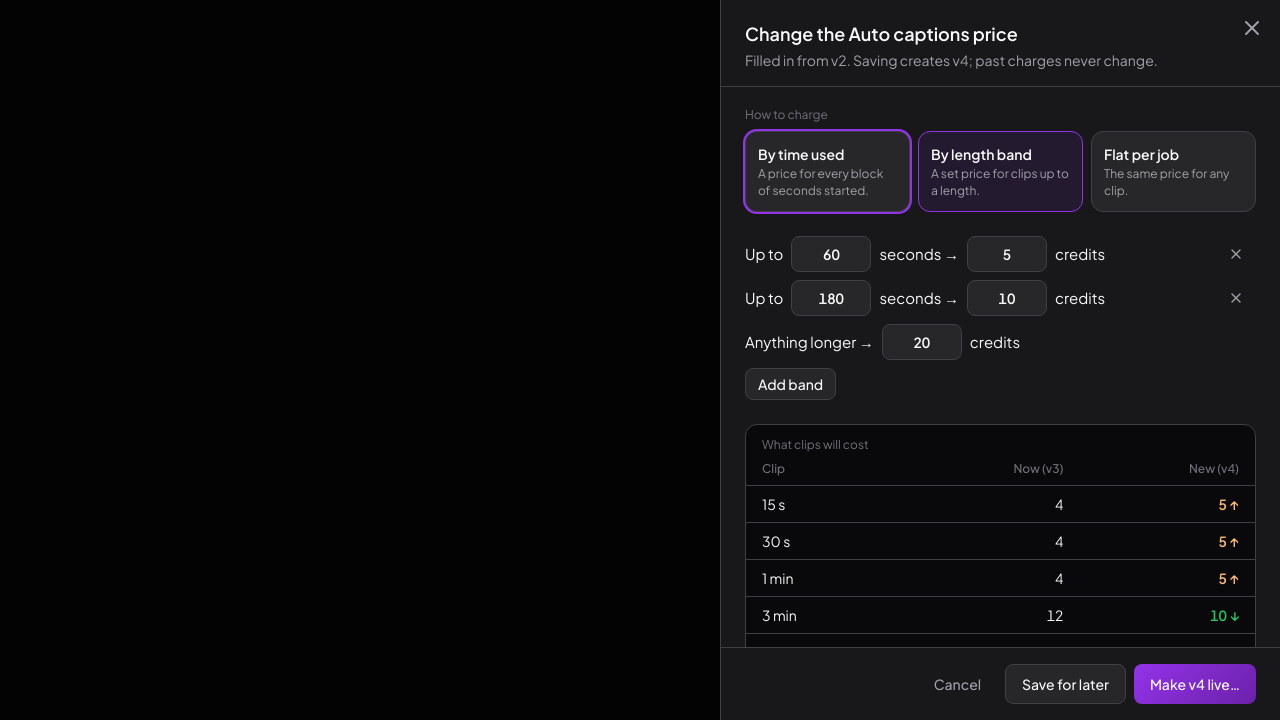
ChangePriceSheet › adds and removes length bands
This screenshot has width=1280, height=720.
What coordinates should you click on to do the following:
click the button "Add band"
I would click on:
 (791, 384)
Its box is 745,368 -> 836,400.
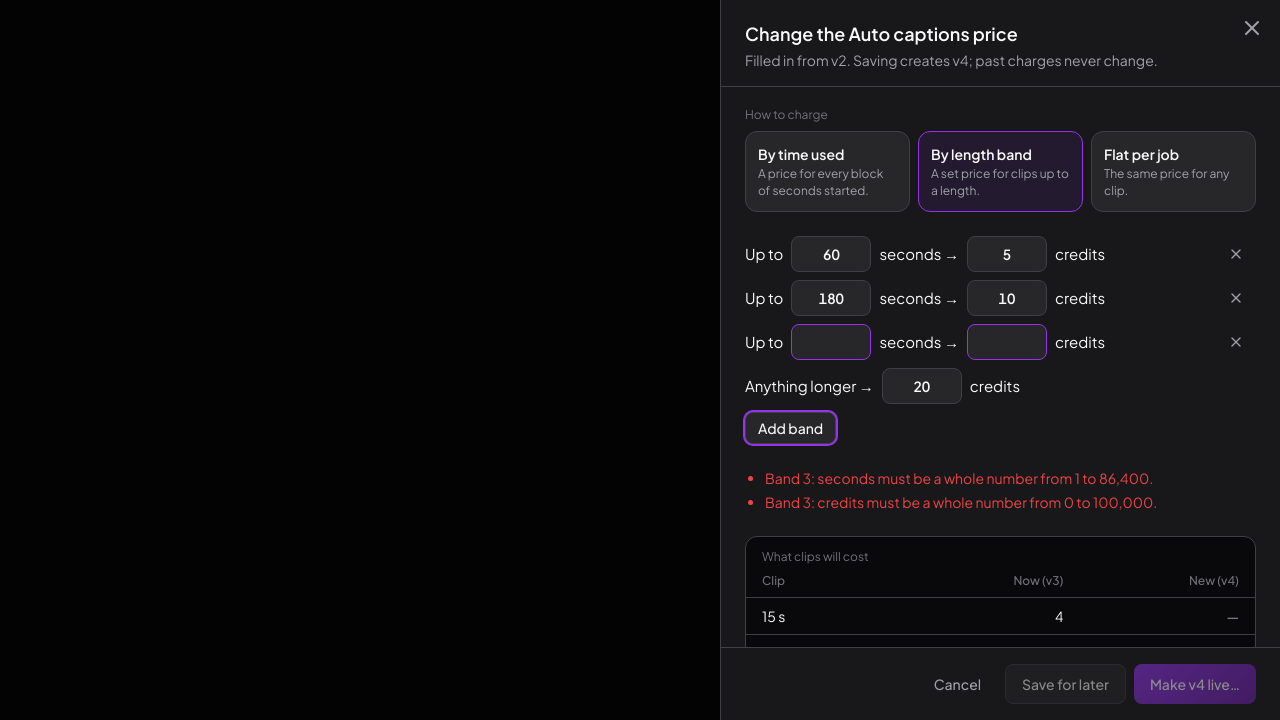
Expected: the field named "Band 3 up to seconds" is empty, 791,324 -> 871,360
What coordinates should you click on to do the following:
click the button named "Remove band 1"
I would click on:
 (1236, 254)
Its box is 1216,238 -> 1256,270.
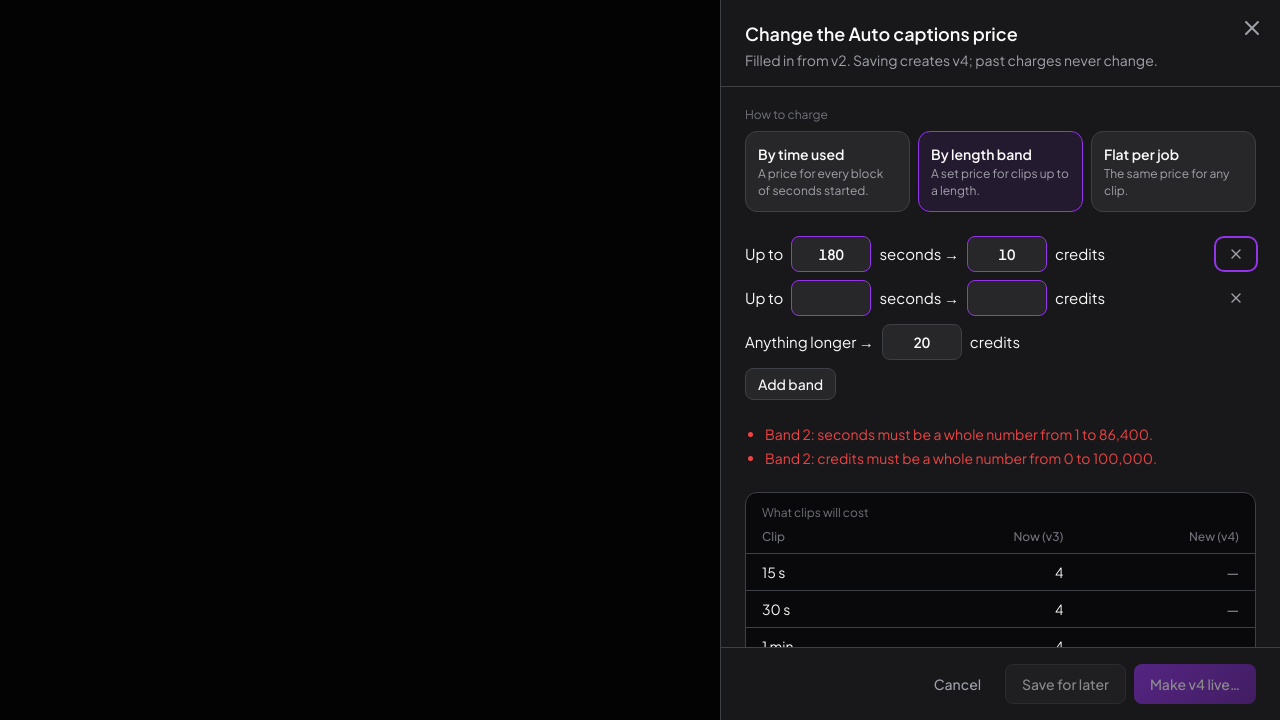
Expected: the field named "Band 1 up to seconds" holds "180", 791,236 -> 871,272
